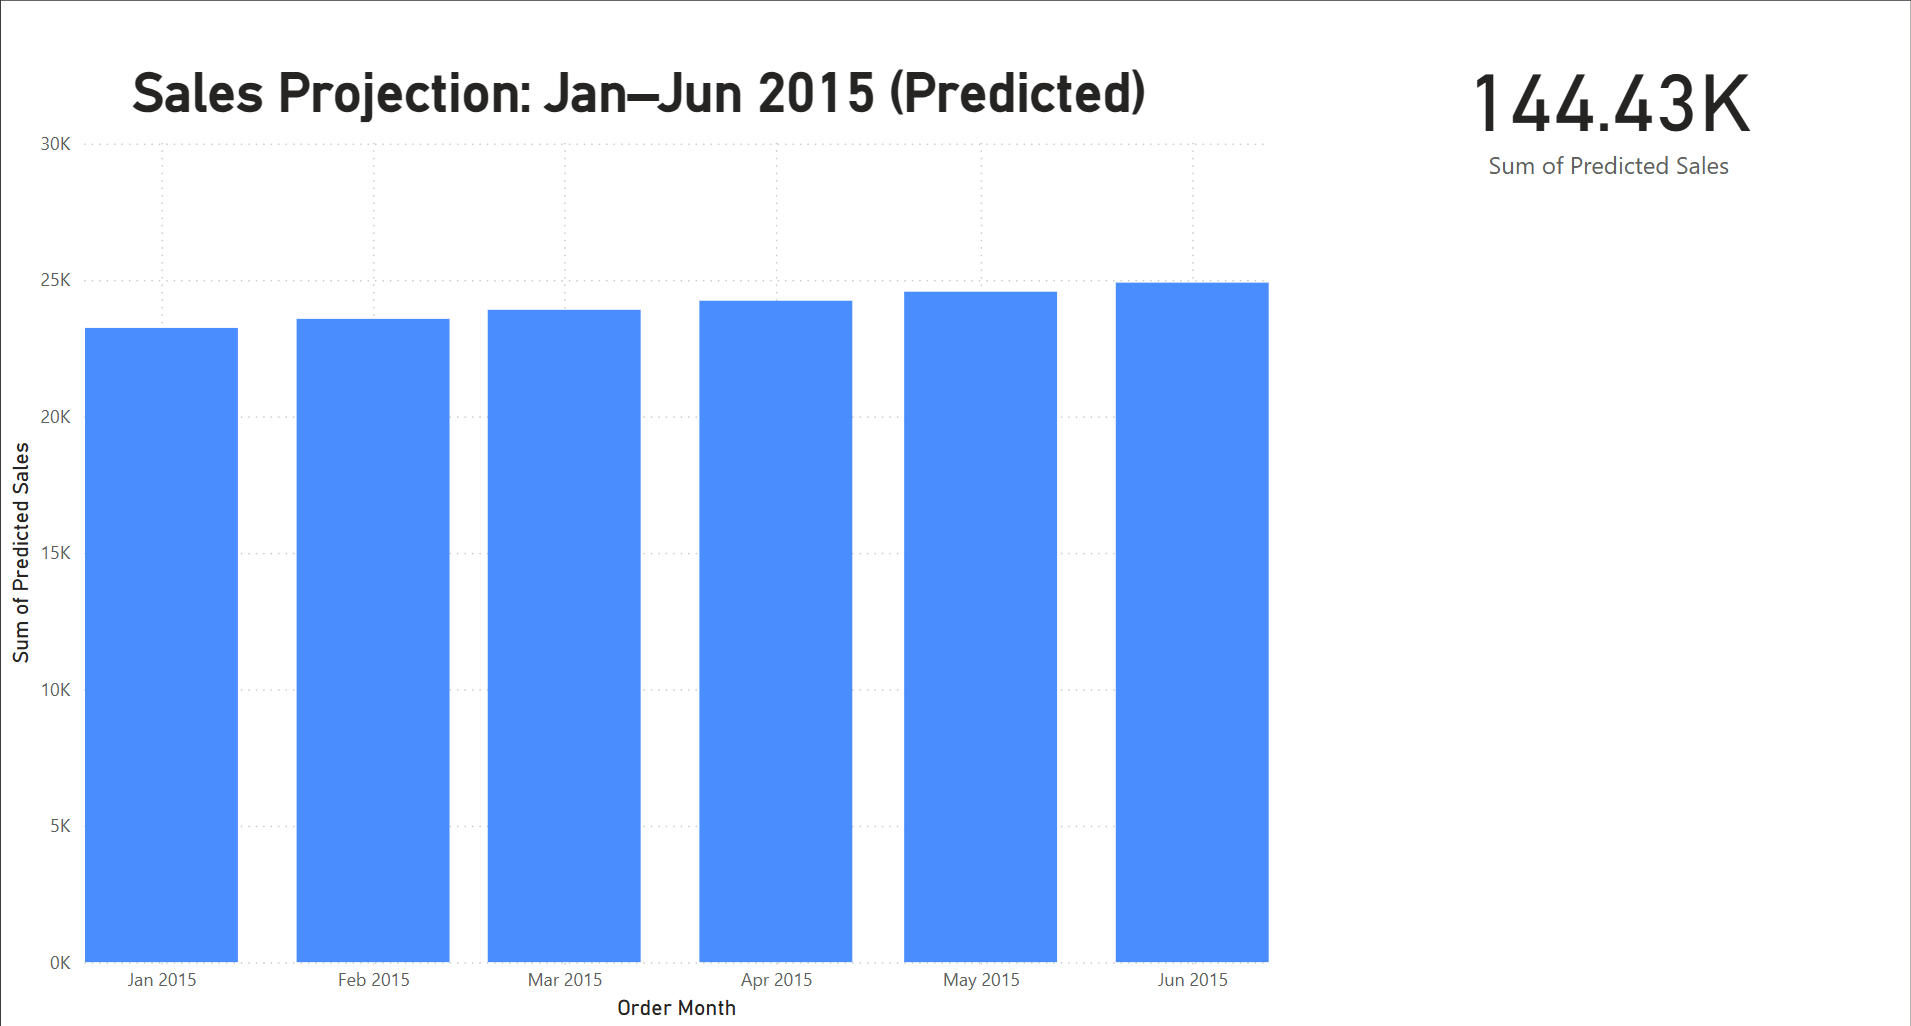

The page's visual inventory and layout, read from the dashboard file:
{"tool":"powerbi","page":{"name":"6months predicted","canvas":[1280,720],"ordinal":3},"visuals":[{"type":"columnChart","title":"Sales Projection: Jan–Jun 2015 (Predicted)","fields":{"Category":["predicted_sales_6_months.Order Month"],"Y":["Sum(predicted_sales_6_months.Predicted Sales)"]},"box":[0,73.4,854.9,646.7],"z":0},{"type":"card","fields":{"Values":["Sum(predicted_sales_6_months.Predicted Sales)"]},"box":[875.1,14.5,405.3,180.5],"z":1000}]}

Visuals, with their boxes on the page's 1280x720 design canvas (x1, y1, x2, y2). These are canvas units, not pixel positions in the 1911x1026 screenshot, which may show the page scaled, cropped or inside an application window:
"Sales Projection: Jan–Jun 2015 (Predicted)" columnChart: [left=0, top=73, right=855, bottom=720]
card - Sum(predicted_sales_6_months.Predicted Sales): [left=875, top=14, right=1280, bottom=195]
